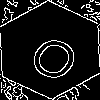O: (24, 25, 88, 85)
